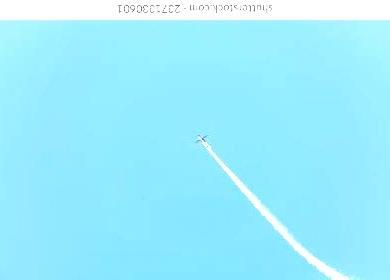Plane: (181, 123, 301, 268)
